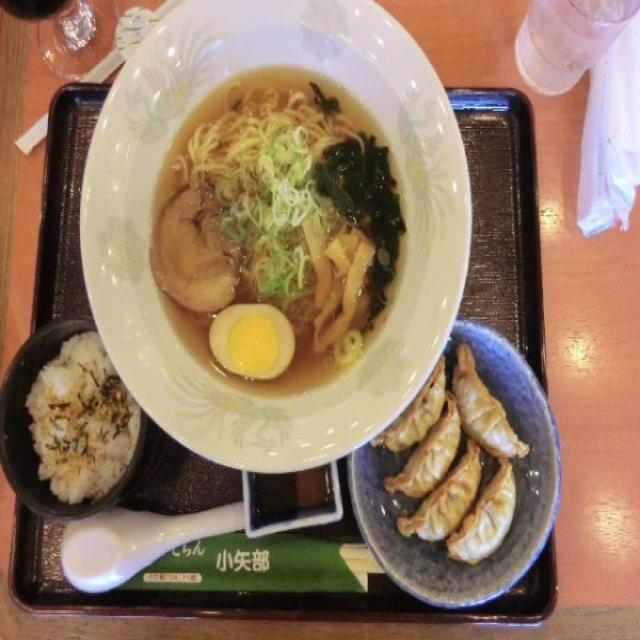带馅早点: (363, 327, 562, 612)
面条主食: (75, 0, 466, 488)
